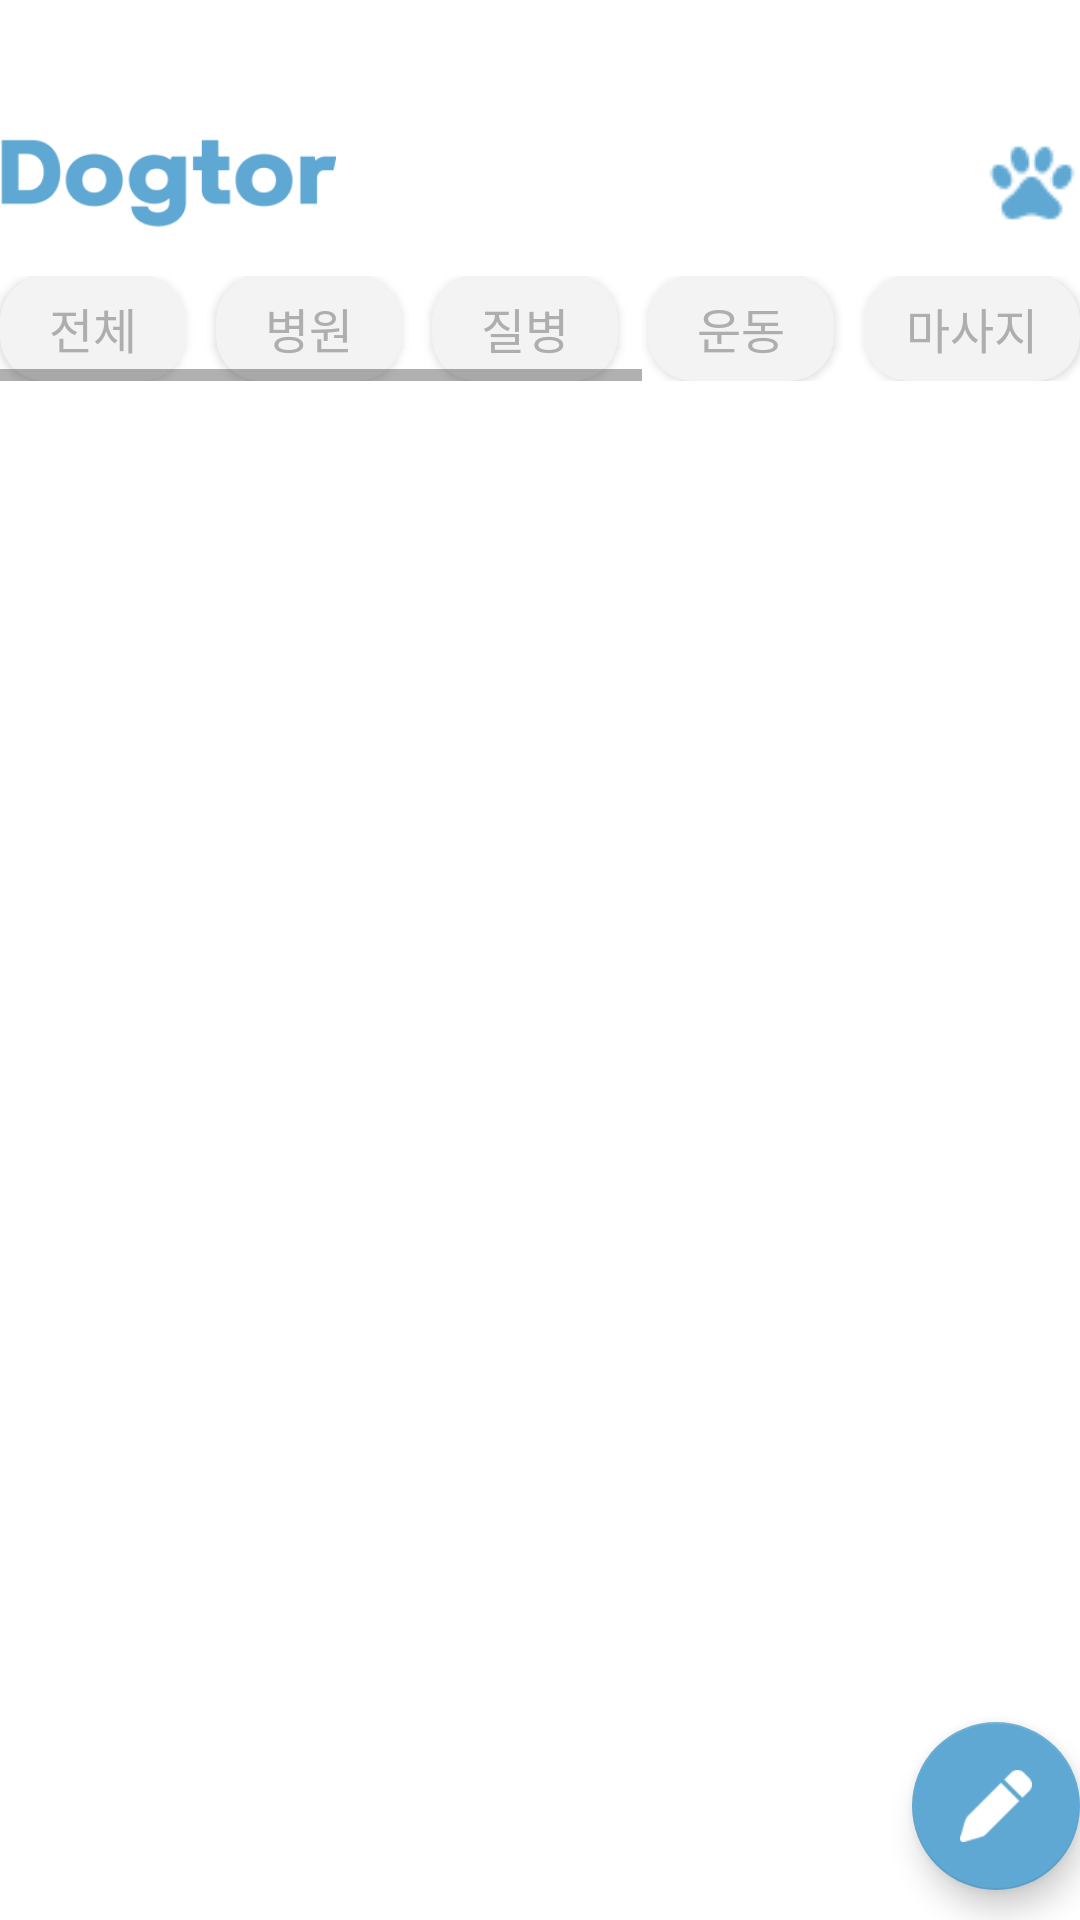

Named icons in this screenshot (1080×1920) and their centers, (x=x, y=y):
floating pen: (x=996, y=1806)
